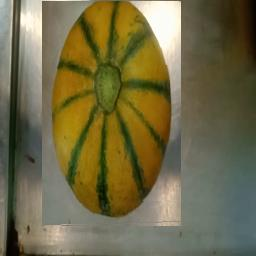Melon Fresh: (42, 2, 181, 227)
